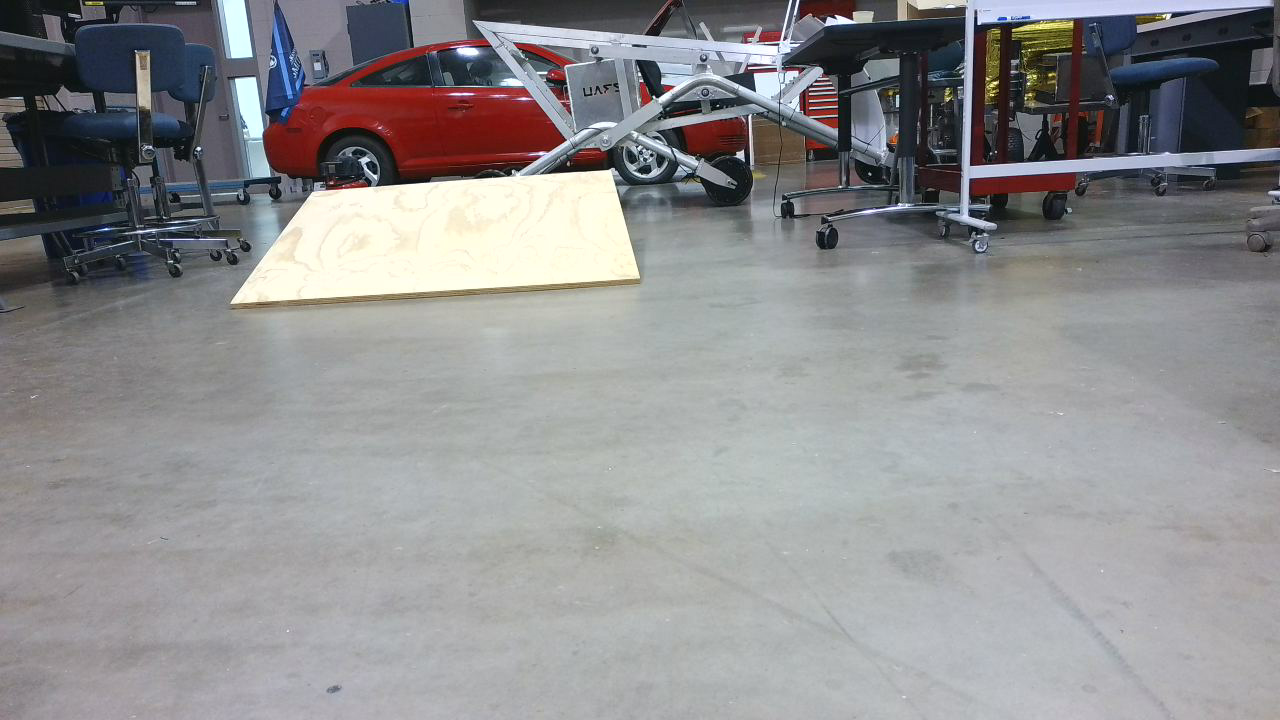concrete_block: (229, 173, 650, 314)
